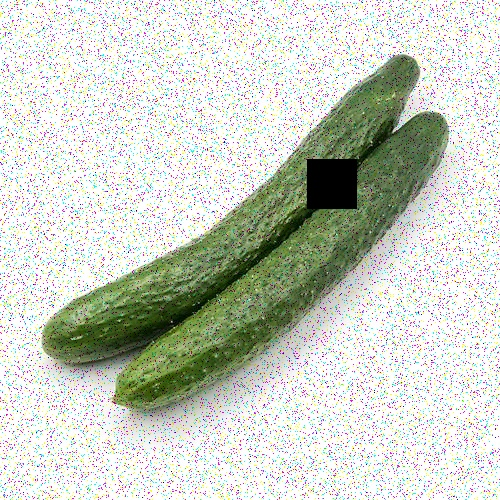cucumber: (48, 62, 422, 365), (118, 106, 444, 411)
